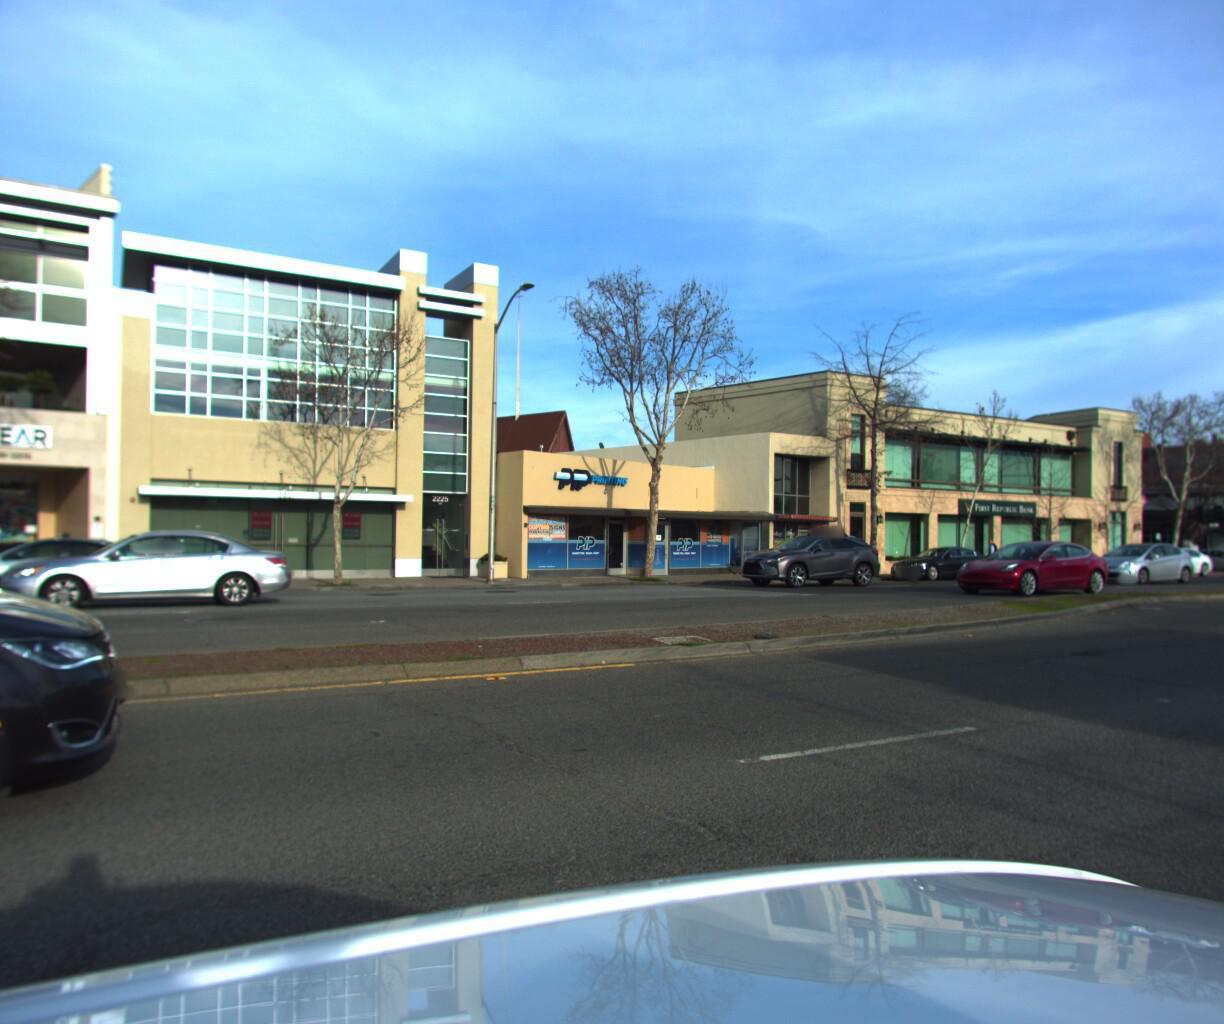car: (0, 352, 160, 1024), (0, 514, 293, 616), (942, 529, 1115, 596), (0, 534, 160, 601), (731, 526, 883, 584), (1078, 540, 1195, 586), (884, 542, 997, 579), (1118, 542, 1212, 575), (1171, 543, 1224, 569)
